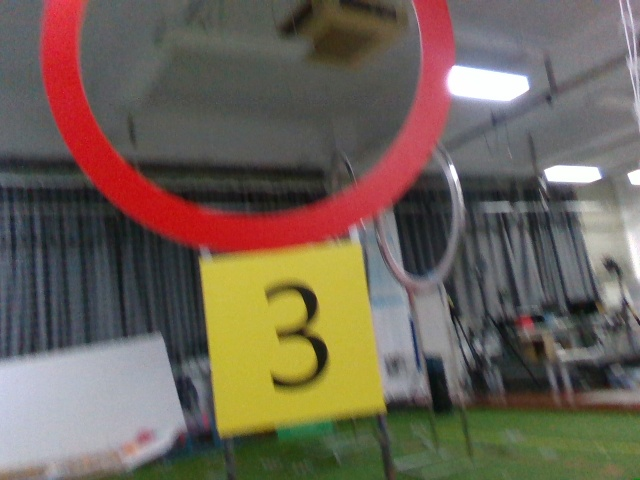target: (216, 256, 372, 408)
